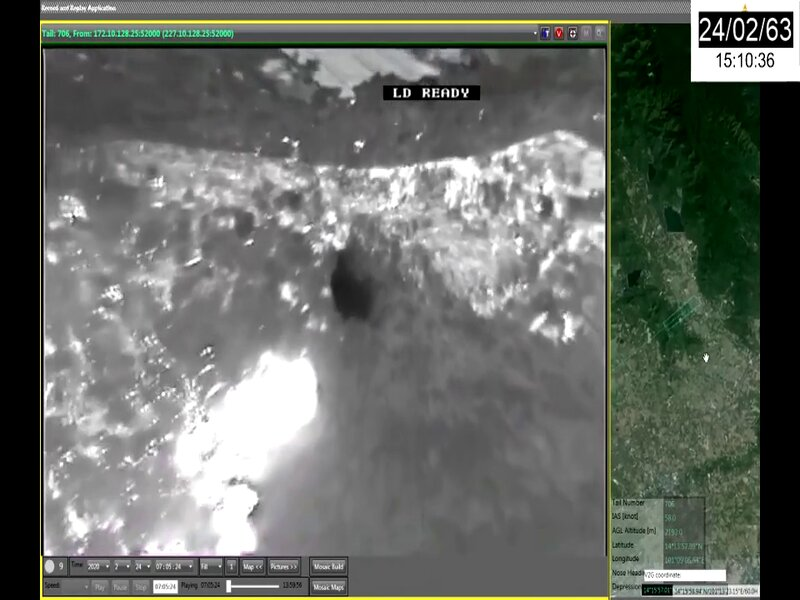Fire: (173, 349, 319, 554)
